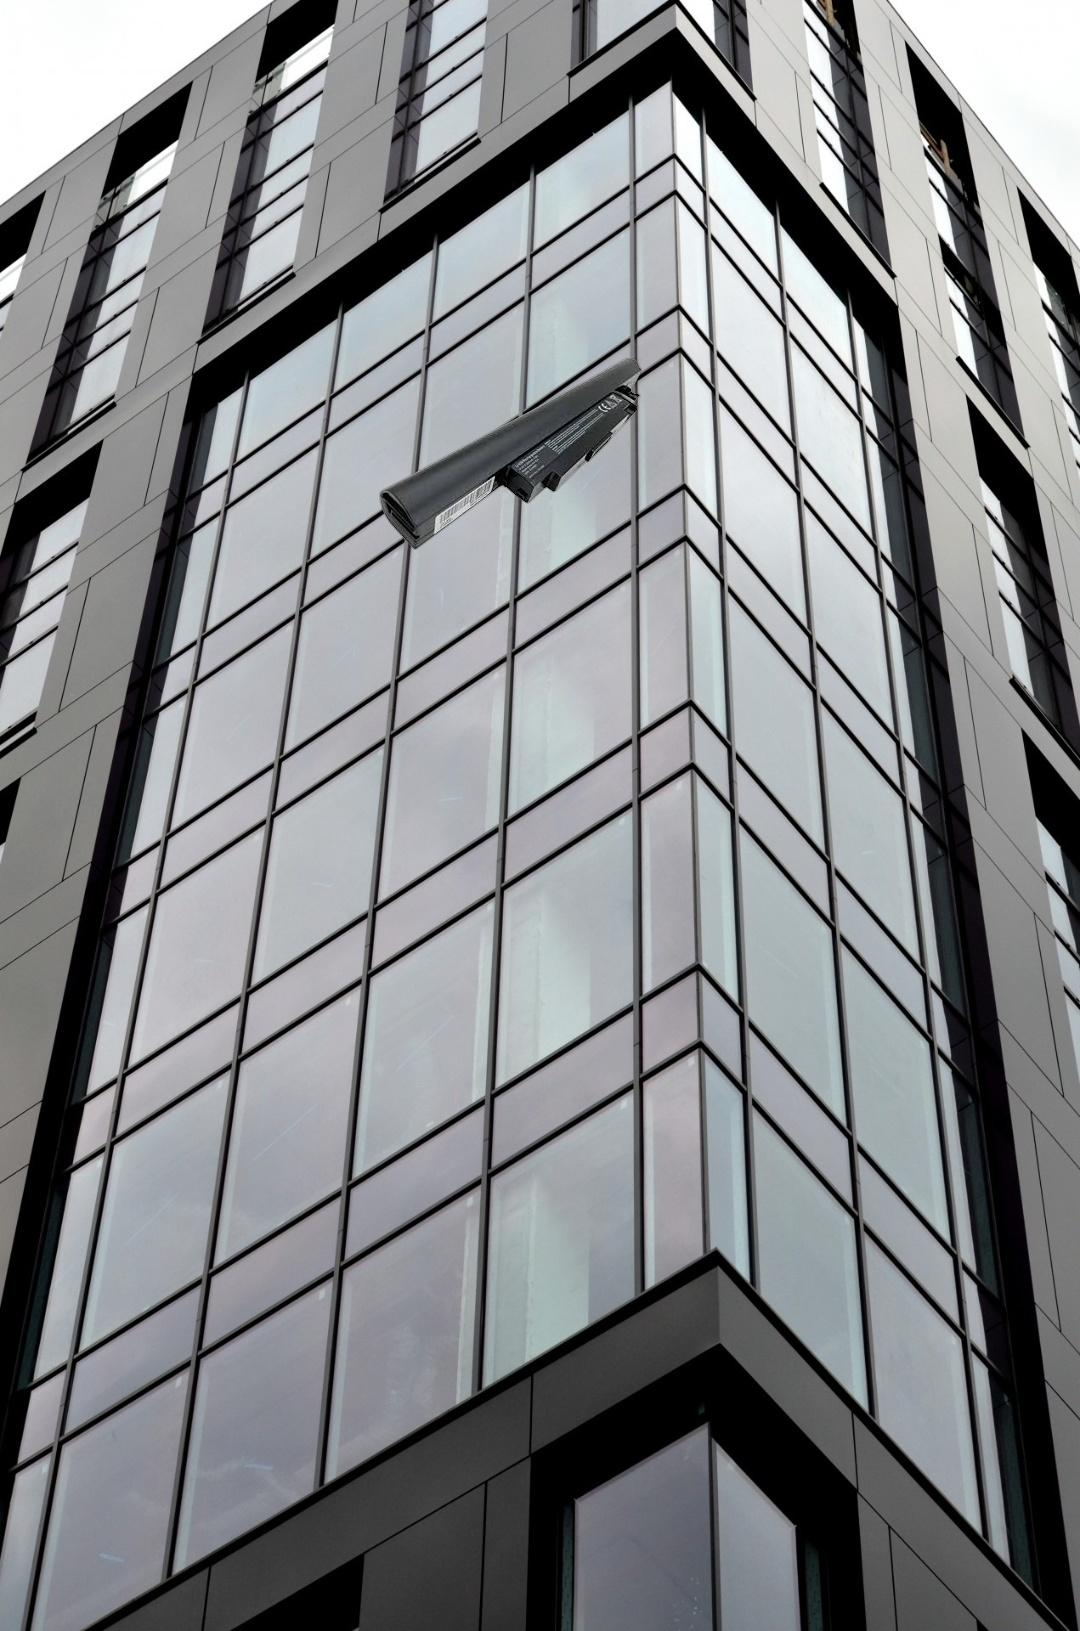battery: (378, 358, 642, 550)
